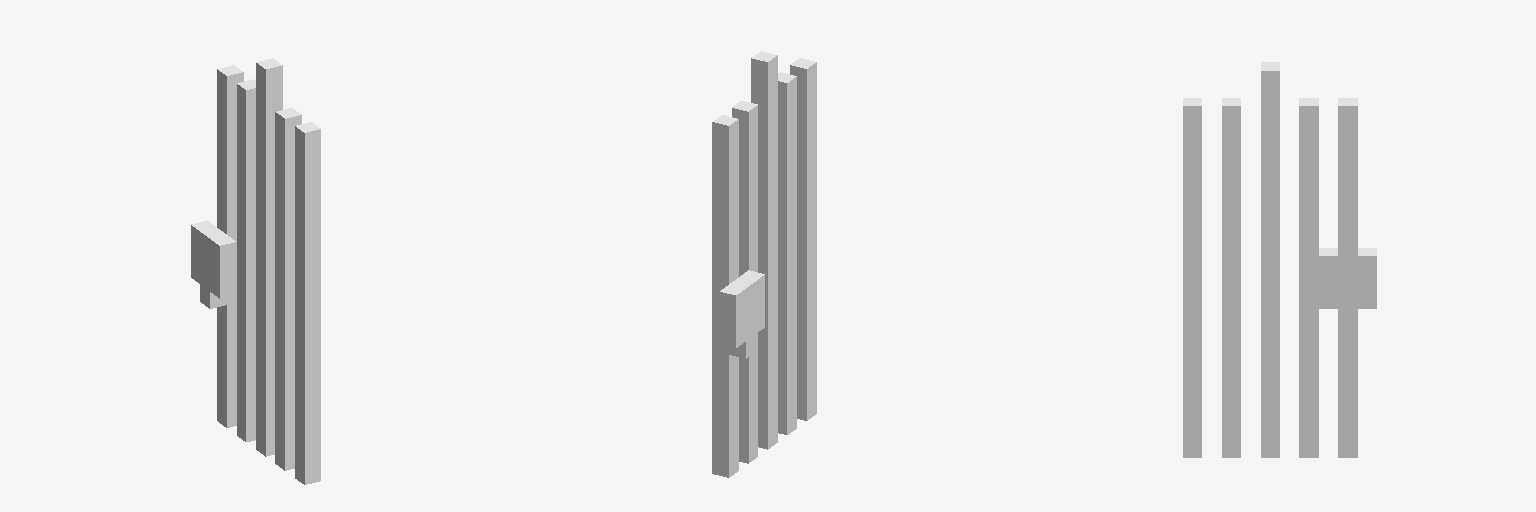
Rendered from Desert-20-Door_Prison_Gold.obj.
3 views of the same model, side by side, from view 1: azimuth 30°, elevation 25°; view 2: azimuth 150°, elevation 25°; view 3: azimuth 270°, elevation 25° (orthographic).
Parts seen in each view (by area): view 1: Door_Prison_Gold; view 2: Door_Prison_Gold; view 3: Door_Prison_Gold.
Part boxes in pixels (x1,y1,x2,y2): Door_Prison_Gold: (191, 58, 320, 484); Door_Prison_Gold: (712, 51, 816, 477); Door_Prison_Gold: (1183, 62, 1376, 457).
Bounding box in the file's own units: 0.2 × 2.2 × 1.